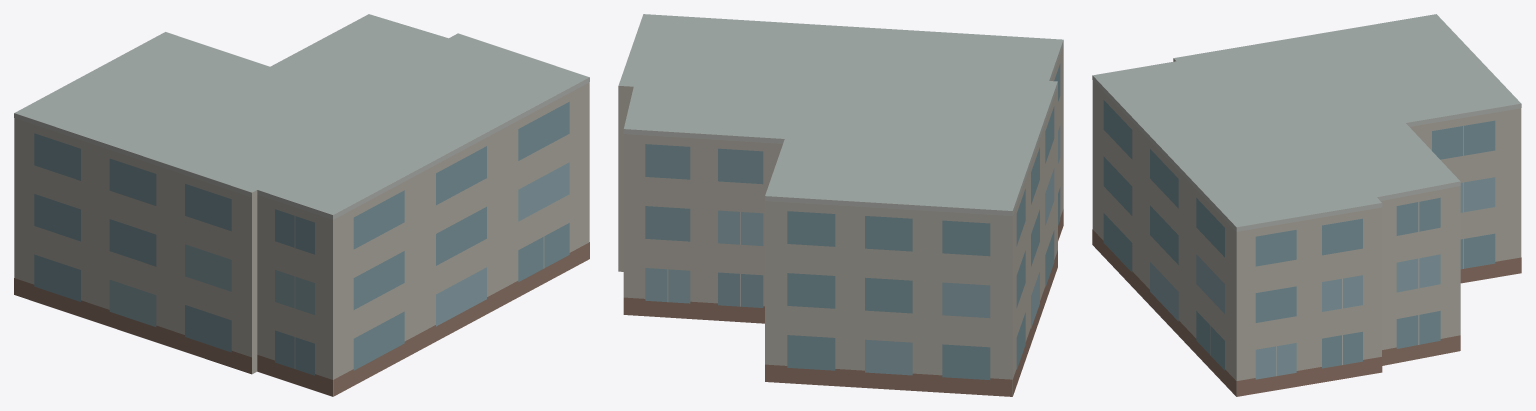
The model's file is survey-upis-32863881.glb.
3 views of the same model, side by side, from view 1: azimuth 30°, elevation 25°; view 2: azimuth 150°, elevation 25°; view 3: azimuth 270°, elevation 25° (orthographic). The views are drawn at different scales.
Parts seen in each view (by area): view 1: survey-upis-32863881.tmp; view 2: survey-upis-32863881.tmp; view 3: survey-upis-32863881.tmp.
Boxes of the visible parts, x1=… form: survey-upis-32863881.tmp: x1=14, y1=14, x2=589, y2=396; survey-upis-32863881.tmp: x1=618, y1=14, x2=1063, y2=396; survey-upis-32863881.tmp: x1=1092, y1=14, x2=1521, y2=396.
Size of the model in its own units: 24.69 by 9.15 by 20.98.
